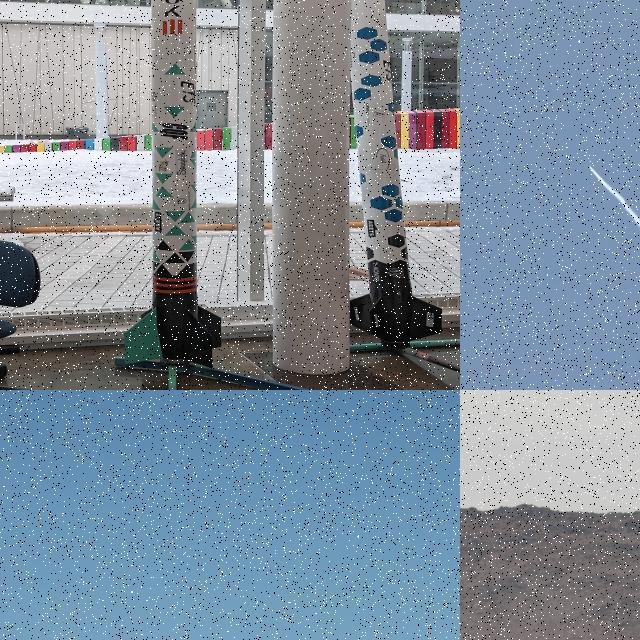Rocket: (124, 0, 222, 369), (350, 0, 442, 348), (589, 165, 590, 168)
